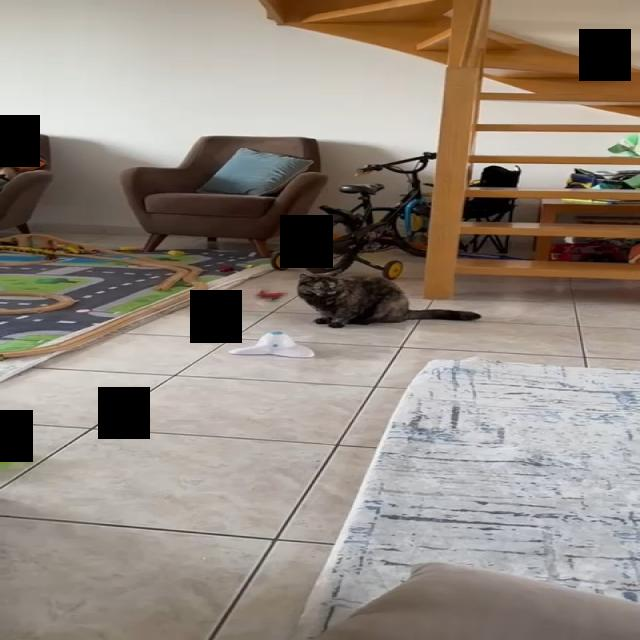authorized: (296, 272, 481, 328)
